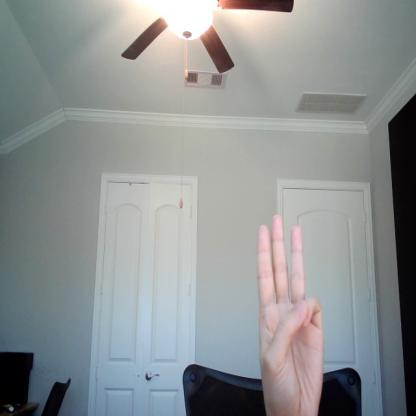six: (249, 212, 329, 415)
